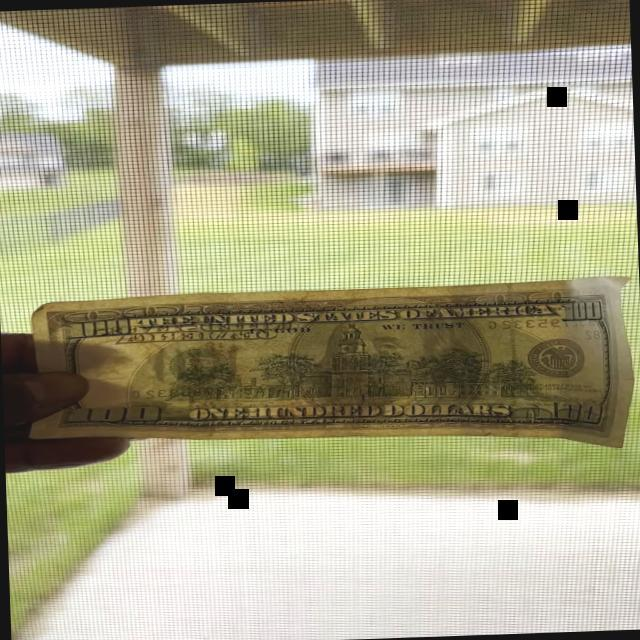hundred: (28, 274, 637, 449)
